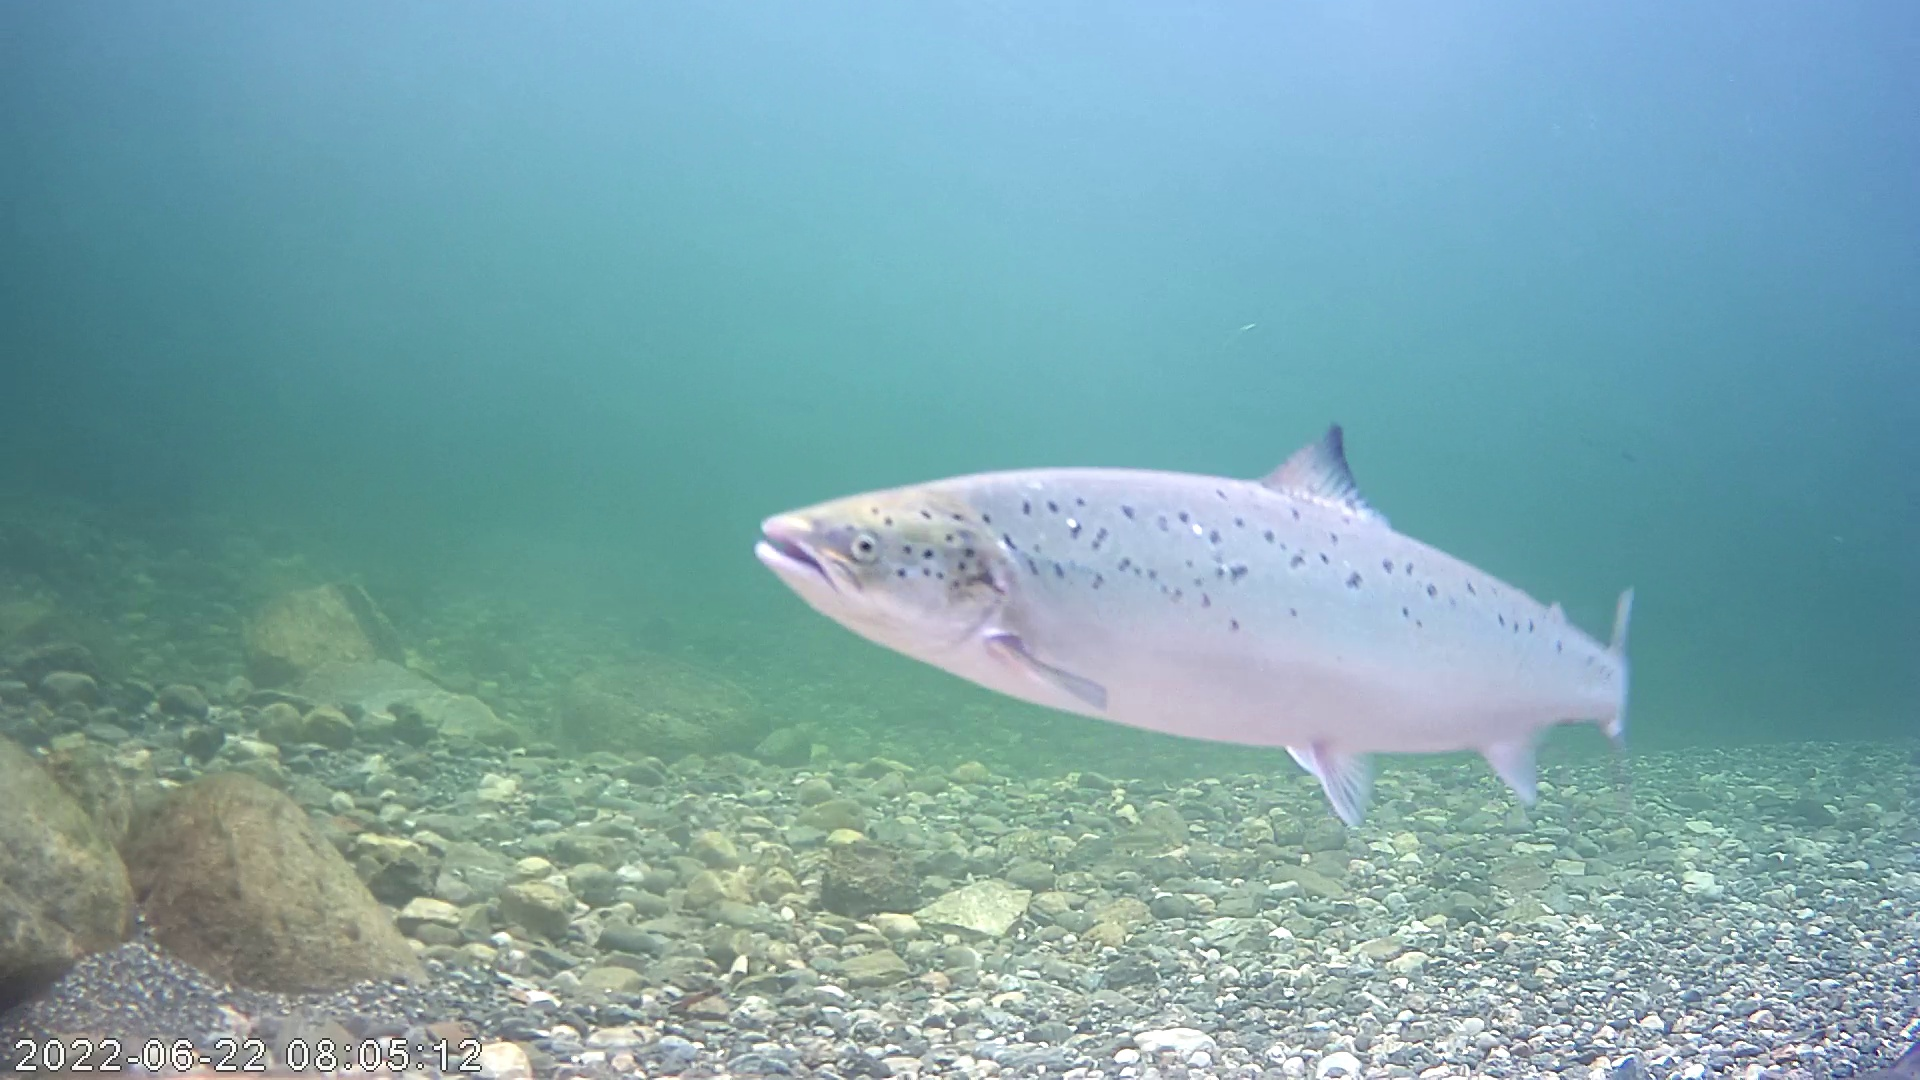salmon: (745, 419, 1642, 833)
